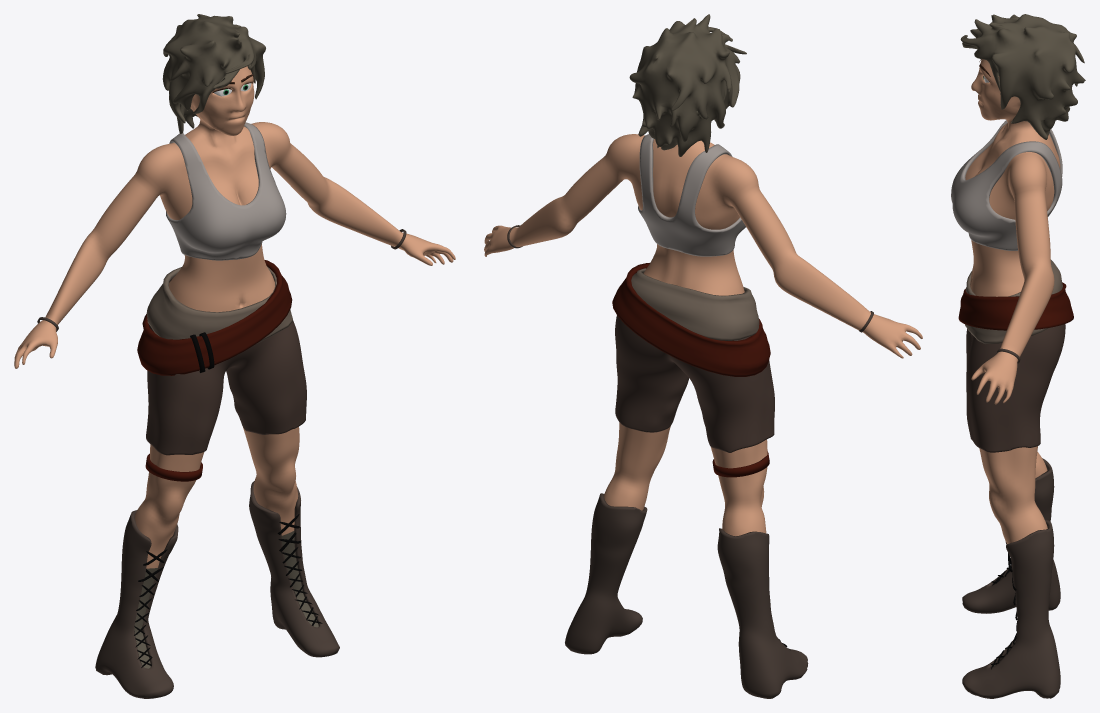
File: WariorWoman.glb
The picture shows the model from 3 angles, left to right: view 1: azimuth 30°, elevation 25°; view 2: azimuth 150°, elevation 25°; view 3: azimuth 270°, elevation 25°; orthographic projection.
Visible parts, largest first — view 1: Retopo_Cube.002; view 2: Retopo_Cube.002; view 3: Retopo_Cube.002.
Boxes of the visible parts, bbox=[...] form: Retopo_Cube.002: bbox=[14, 14, 455, 698]; Retopo_Cube.002: bbox=[484, 14, 922, 698]; Retopo_Cube.002: bbox=[951, 14, 1085, 698].
Size of the model in its own units: 14.78 by 20.59 by 3.98.
